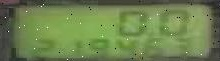-: (147, 30, 156, 35)
0: (155, 8, 189, 35), (113, 9, 146, 34)
1: (67, 37, 85, 57)
2: (29, 38, 55, 58)
3: (167, 37, 189, 57)
4: (113, 37, 138, 57)
6: (140, 35, 164, 56)
9: (87, 37, 109, 58)
